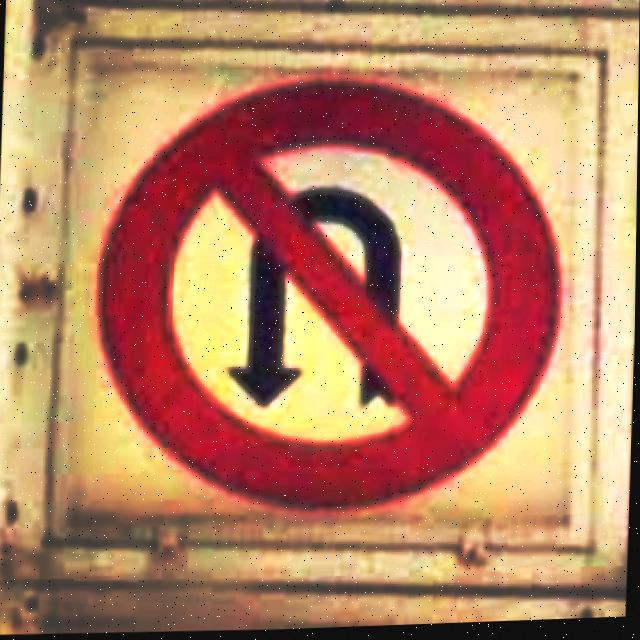nouturn: (100, 84, 556, 513)
